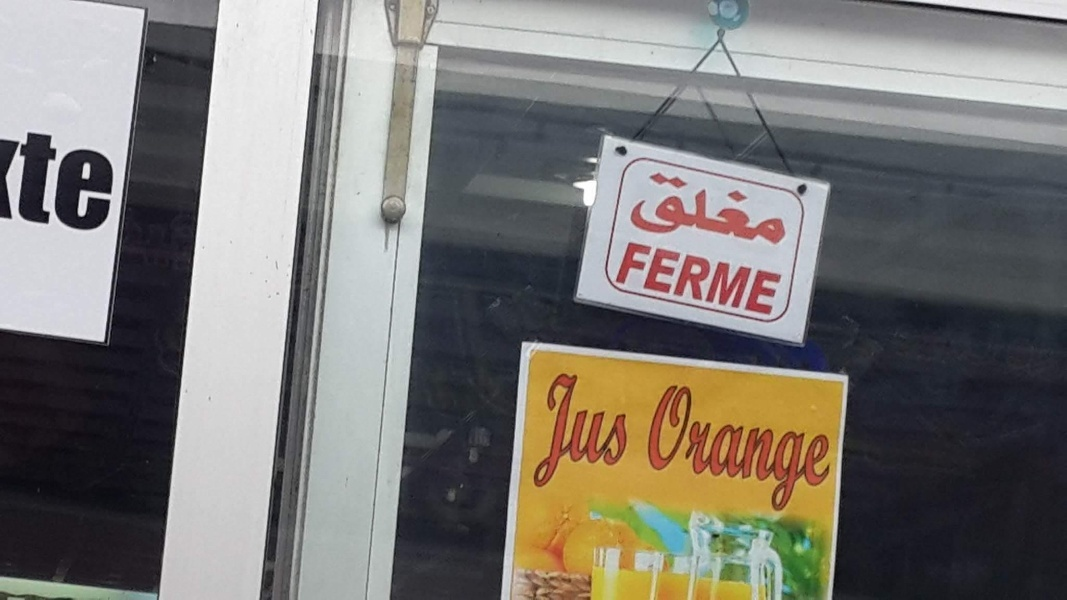text: (657, 379, 672, 520), (673, 379, 688, 520), (689, 379, 704, 520), (705, 379, 720, 520), (721, 379, 736, 520), (737, 379, 752, 520), (753, 379, 768, 520), (769, 379, 784, 520), (785, 379, 800, 520), (801, 379, 816, 520), (817, 379, 832, 520), (545, 370, 560, 490), (561, 370, 576, 490), (577, 370, 592, 490), (593, 370, 608, 490), (609, 370, 624, 490), (33, 127, 48, 237), (49, 127, 64, 237), (65, 127, 80, 237), (81, 127, 96, 237), (97, 127, 112, 237), (641, 169, 656, 260), (657, 169, 672, 260), (673, 169, 688, 260), (689, 169, 704, 260), (705, 169, 720, 260), (721, 169, 736, 260), (737, 169, 752, 260), (753, 169, 768, 260), (769, 169, 784, 260), (641, 242, 656, 318), (657, 242, 672, 318), (673, 242, 688, 318), (689, 242, 704, 318), (705, 242, 720, 318), (721, 242, 736, 318), (737, 242, 752, 318), (753, 242, 768, 318), (769, 242, 784, 318), (22, 127, 32, 237), (625, 370, 633, 490), (628, 242, 640, 318), (113, 127, 121, 237), (785, 169, 794, 260), (538, 370, 544, 490), (651, 379, 656, 520), (833, 379, 836, 520)
